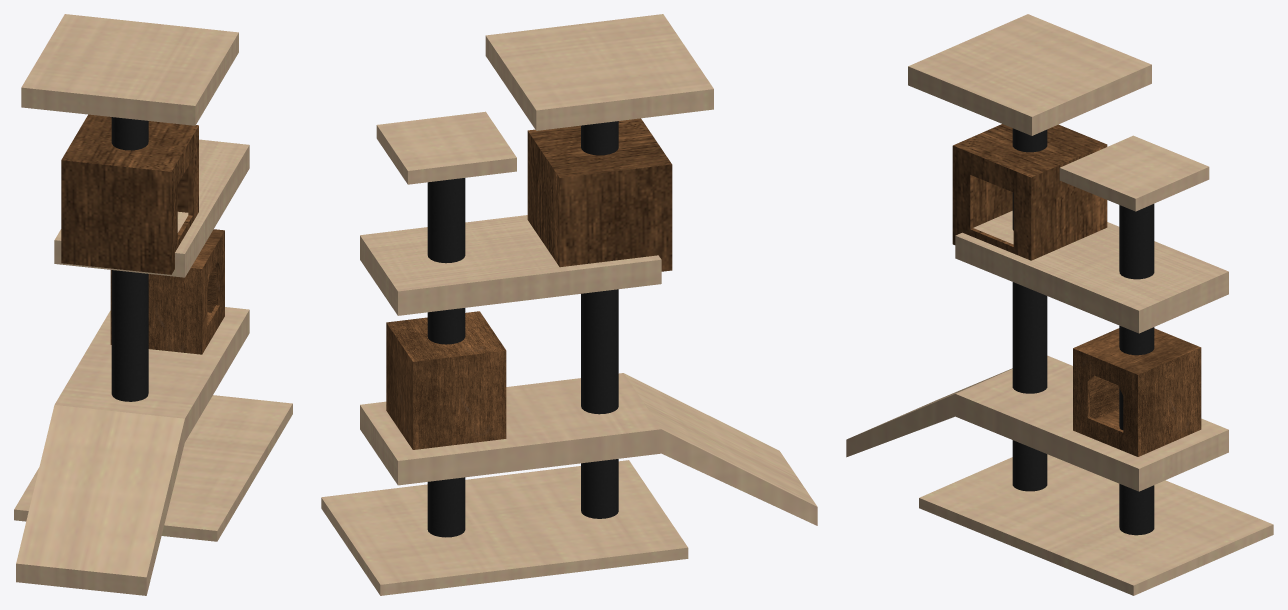
Rendered from CatTree.fbx.
3 views of the same model, side by side, from view 1: azimuth 30°, elevation 25°; view 2: azimuth 150°, elevation 25°; view 3: azimuth 270°, elevation 25° (orthographic). The views are drawn at different scales.
Visible parts, largest first — view 1: CatTree; view 2: CatTree; view 3: CatTree.
Part boxes in pixels (<box>): CatTree: <box>14,14,292,595</box>; CatTree: <box>321,14,817,595</box>; CatTree: <box>846,14,1273,595</box>.
Size of the model in its own units: 276 by 311 by 280.
